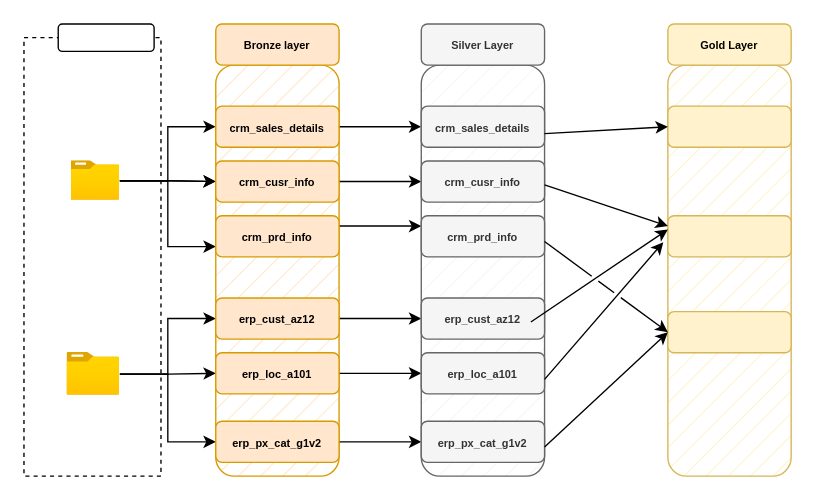
The diagram is 815 pixels wide and 500 high, and some of its shapes have lost their labels. Here are the shapes that lost their labels. From the top down, the centre of each, then its label:
At [105,37]: "SOURCES".
At [729,126]: "fact_sales".
At [95,180]: "CRM".
At [729,235]: "dim_customers".
At [729,331]: "dim_products".
At [92,373]: "ERP".
